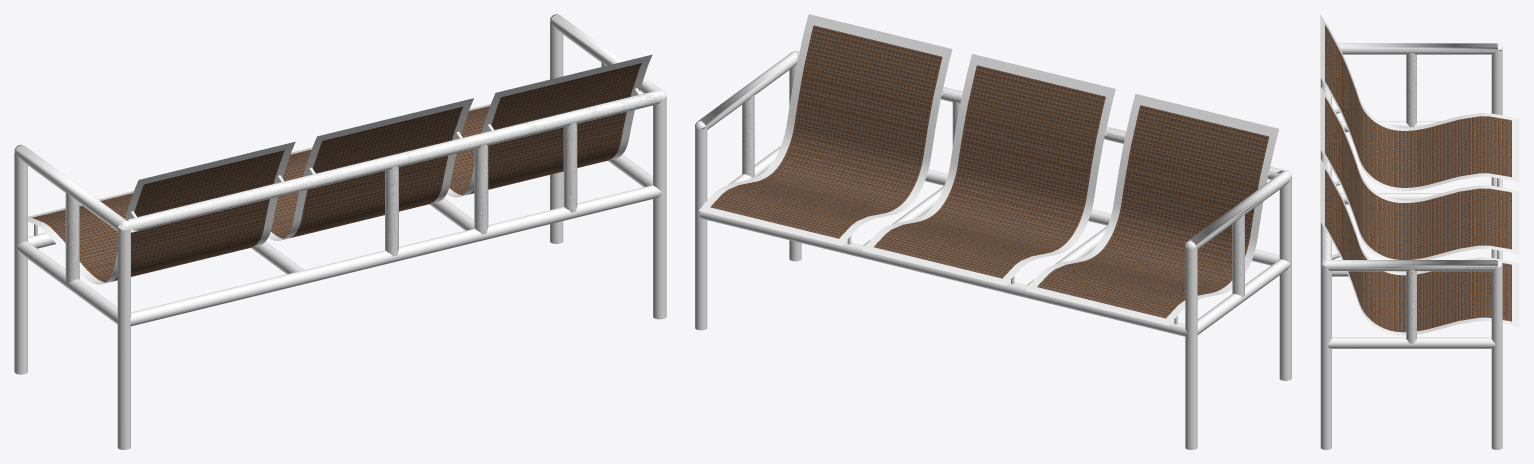
3 views of the same model, side by side, from view 1: azimuth 30°, elevation 25°; view 2: azimuth 150°, elevation 25°; view 3: azimuth 270°, elevation 25° (orthographic). The views are drawn at different scales.
Visible parts, largest first — view 1: mesh9_mesh9-geometry, mesh5_mesh5-geometry, mesh1_mesh1-geometry, mesh10_mesh10-geometry, mesh6_mesh6-geometry, mesh4_mesh4-geometry, mesh3_mesh3-geometry; view 2: mesh9_mesh9-geometry, mesh1_mesh1-geometry, mesh5_mesh5-geometry, mesh6_mesh6-geometry, mesh4_mesh4-geometry, mesh3_mesh3-geometry, mesh10_mesh10-geometry; view 3: mesh9_mesh9-geometry, mesh1_mesh1-geometry, mesh5_mesh5-geometry, mesh3_mesh3-geometry, mesh4_mesh4-geometry, mesh6_mesh6-geometry, mesh10_mesh10-geometry.
Part boxes in pixels (x1=…): mesh9_mesh9-geometry: x1=28, y1=54, x2=652, y2=284; mesh5_mesh5-geometry: x1=16, y1=154, x2=661, y2=326; mesh1_mesh1-geometry: x1=14, y1=22, x2=666, y2=449; mesh10_mesh10-geometry: x1=125, y1=90, x2=662, y2=232; mesh6_mesh6-geometry: x1=65, y1=62, x2=605, y2=283; mesh4_mesh4-geometry: x1=14, y1=144, x2=127, y2=230; mesh3_mesh3-geometry: x1=550, y1=14, x2=666, y2=99; mesh9_mesh9-geometry: x1=699, y1=14, x2=1279, y2=325; mesh1_mesh1-geometry: x1=695, y1=65, x2=1291, y2=449; mesh5_mesh5-geometry: x1=699, y1=146, x2=1290, y2=336; mesh6_mesh6-geometry: x1=742, y1=95, x2=1244, y2=297; mesh4_mesh4-geometry: x1=1185, y1=171, x2=1291, y2=249; mesh3_mesh3-geometry: x1=695, y1=51, x2=797, y2=129; mesh10_mesh10-geometry: x1=796, y1=51, x2=1286, y2=179; mesh9_mesh9-geometry: x1=1320, y1=14, x2=1519, y2=335; mesh1_mesh1-geometry: x1=1320, y1=50, x2=1502, y2=449; mesh5_mesh5-geometry: x1=1328, y1=121, x2=1502, y2=348; mesh3_mesh3-geometry: x1=1320, y1=260, x2=1502, y2=271; mesh4_mesh4-geometry: x1=1337, y1=43, x2=1502, y2=54; mesh6_mesh6-geometry: x1=1406, y1=53, x2=1416, y2=343; mesh10_mesh10-geometry: x1=1320, y1=78, x2=1331, y2=264.
Bounding box in the file's own units: 0.8567 × 0.3998 × 0.326.
